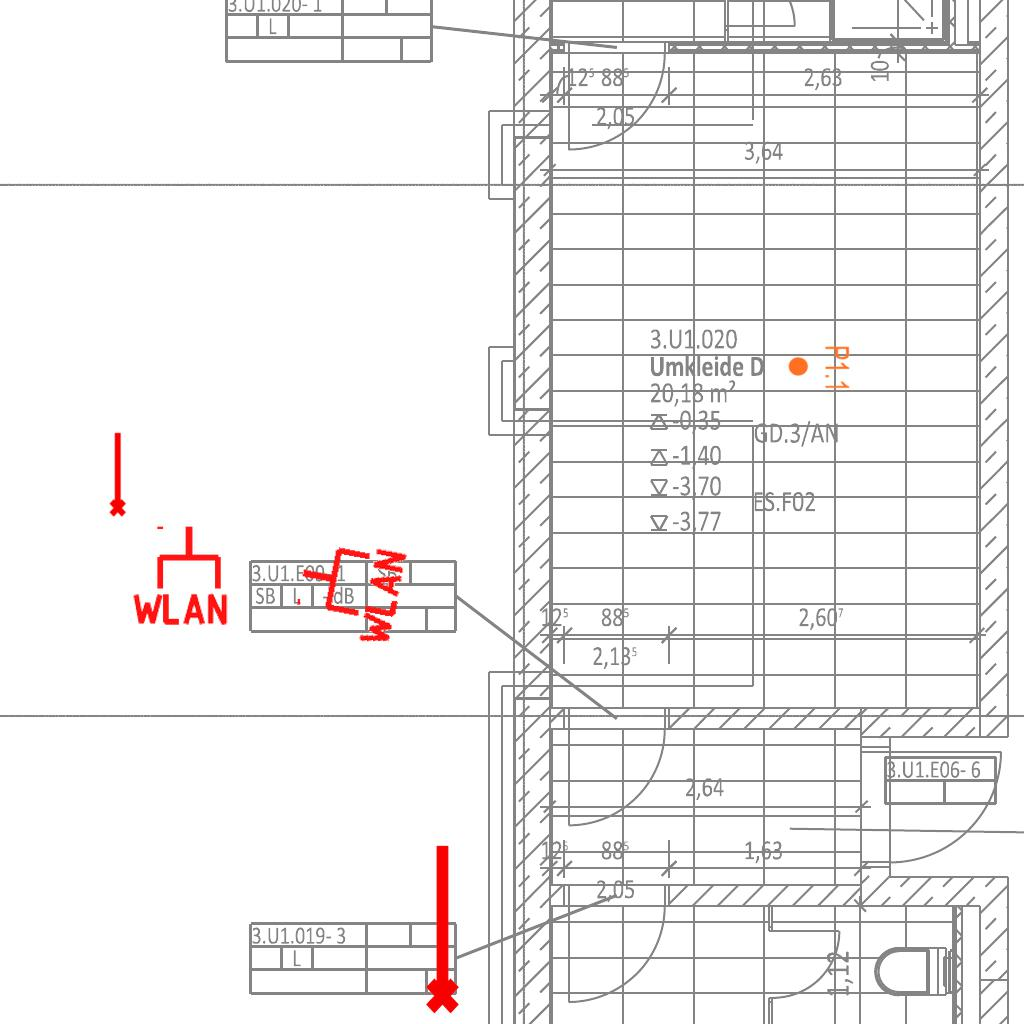ASR_Ansaugoeffnung: (417, 840, 463, 1016), (105, 430, 128, 518)
Downlight_LED_Einbauleuchten_Flur: (787, 345, 851, 391)
WLAN: (287, 529, 410, 653), (128, 522, 232, 627)
